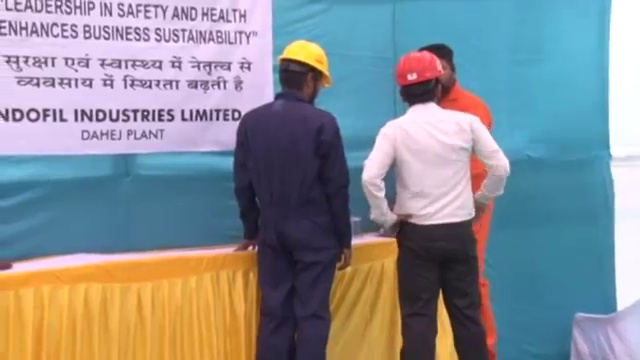helmet: (276, 38, 333, 87), (395, 49, 446, 86)
helmet_on: (275, 37, 334, 107), (394, 49, 445, 110)
person: (360, 48, 515, 360), (231, 37, 353, 360), (419, 44, 508, 356)
